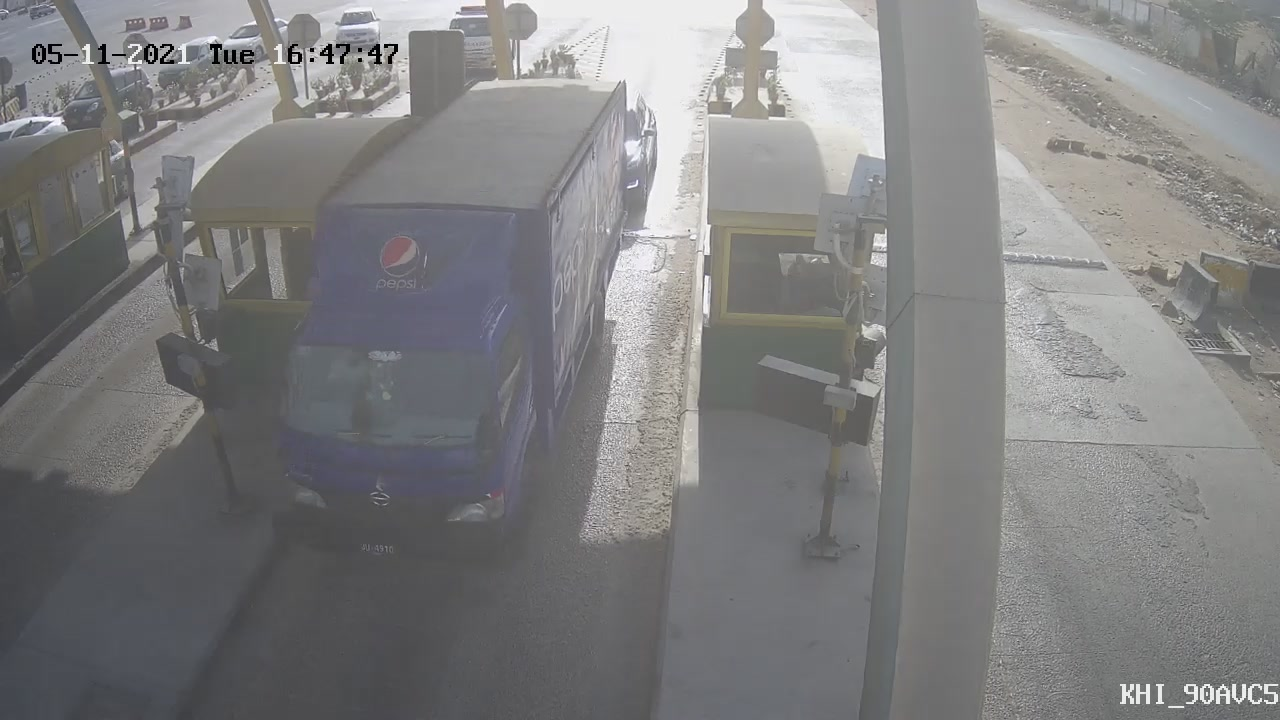F5: (247, 59, 660, 591)
